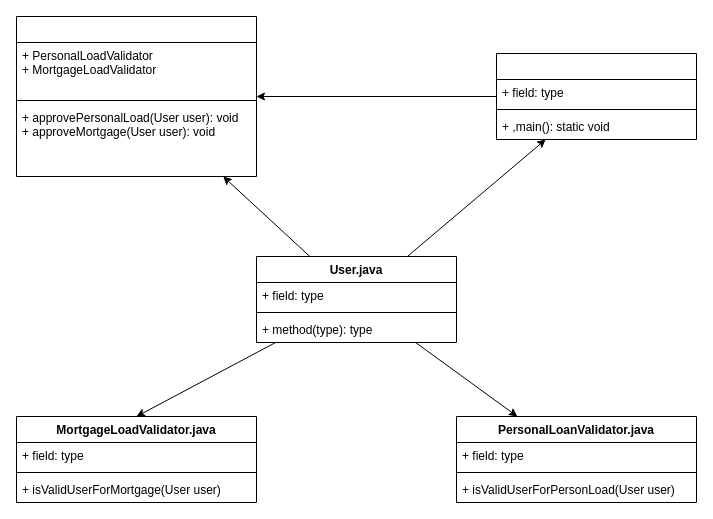
Some shapes in this 713 by 519 pixel diagram are drawn without their labels. Each missing label, with the box of its shape:
LoadHandler.java: (16, 16, 256, 176)
OpenClosedPrincipleDemo.java: (496, 52, 696, 140)
